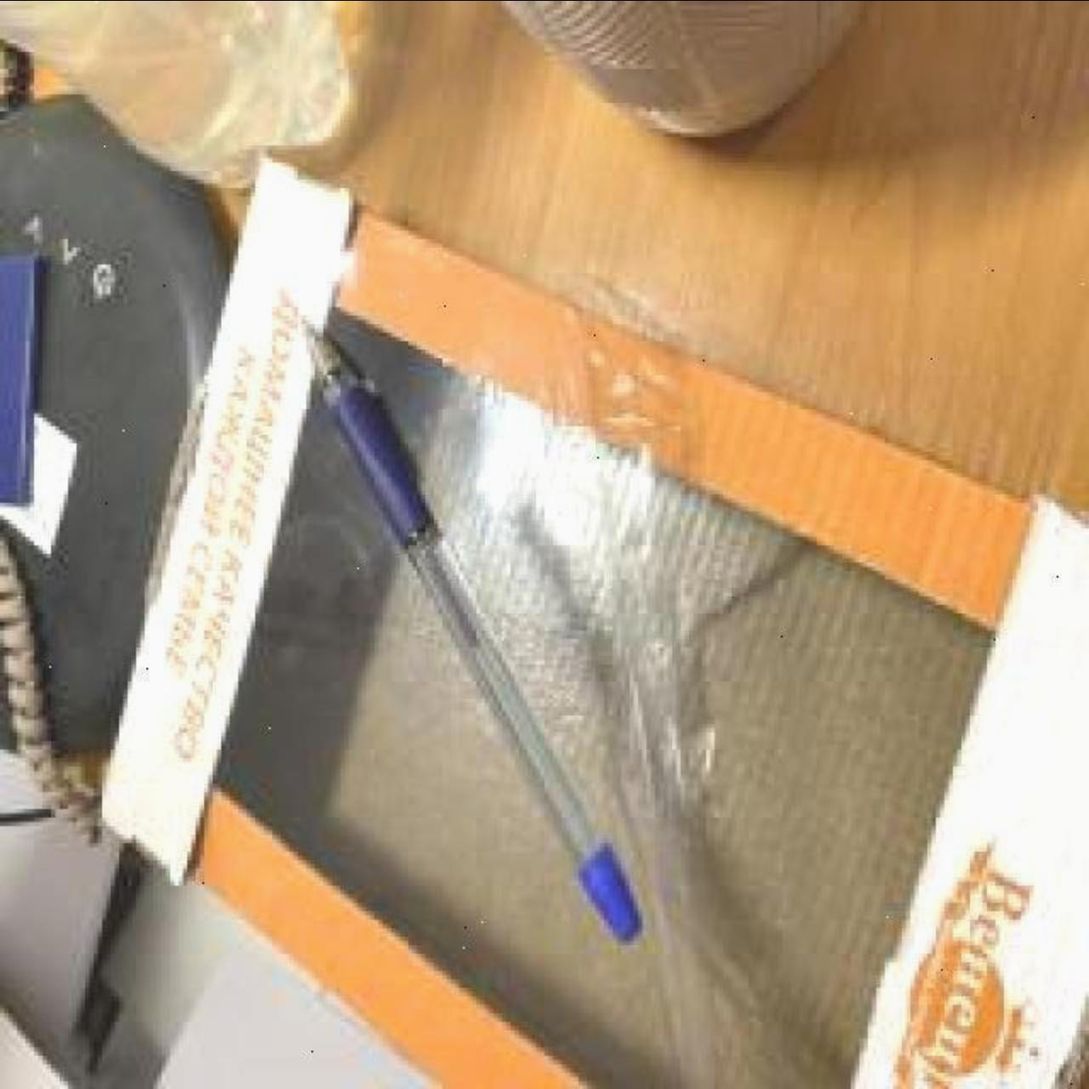pen: (298, 310, 647, 944)
